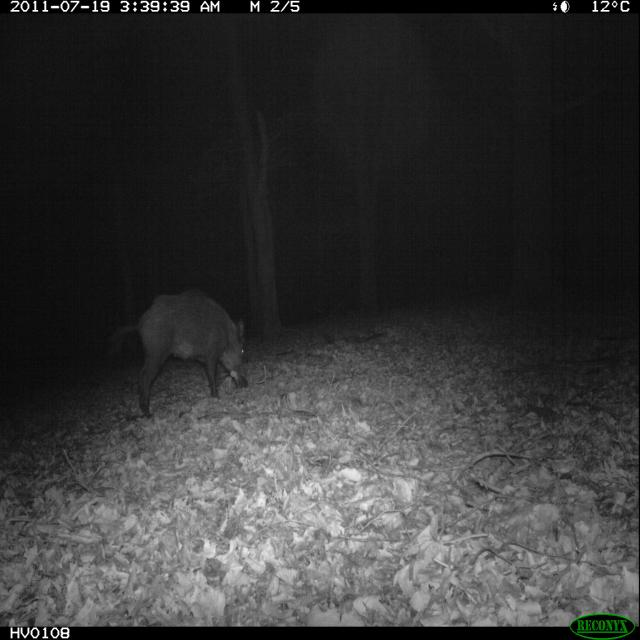boar: (88, 264, 262, 438)
